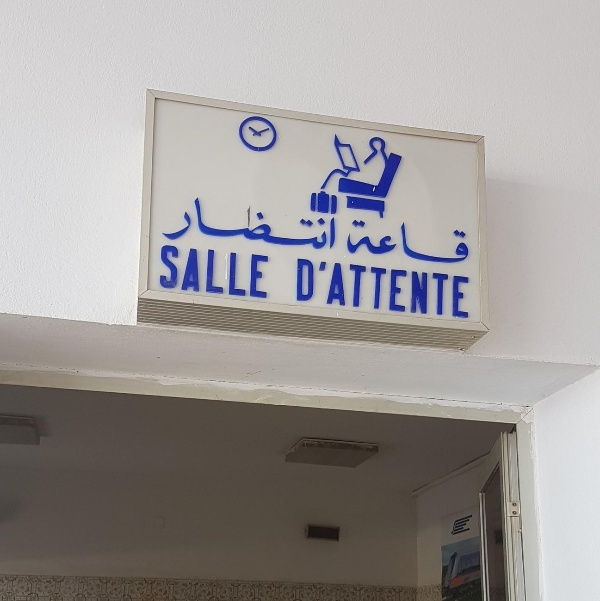text: (305, 258, 320, 320), (321, 258, 336, 320), (337, 258, 352, 320), (353, 258, 368, 320), (369, 258, 384, 320), (385, 258, 400, 320), (401, 258, 416, 320), (417, 258, 432, 320), (433, 258, 448, 320), (449, 258, 464, 320), (257, 243, 273, 301), (177, 192, 192, 252), (193, 192, 208, 252), (209, 192, 224, 252), (225, 192, 240, 252), (241, 192, 256, 252), (257, 192, 272, 252), (273, 192, 288, 252), (289, 192, 304, 252), (305, 192, 320, 252), (321, 192, 336, 252), (161, 243, 176, 301), (177, 243, 192, 301), (193, 243, 208, 301), (209, 243, 224, 301), (225, 243, 240, 301), (241, 243, 256, 301), (353, 218, 368, 267), (369, 218, 384, 267), (385, 218, 400, 267), (401, 218, 416, 267), (417, 218, 432, 267), (433, 218, 448, 267), (449, 218, 464, 267), (165, 192, 176, 252), (296, 258, 304, 320), (465, 258, 472, 320), (345, 218, 352, 267), (465, 218, 471, 267), (337, 192, 341, 252)
